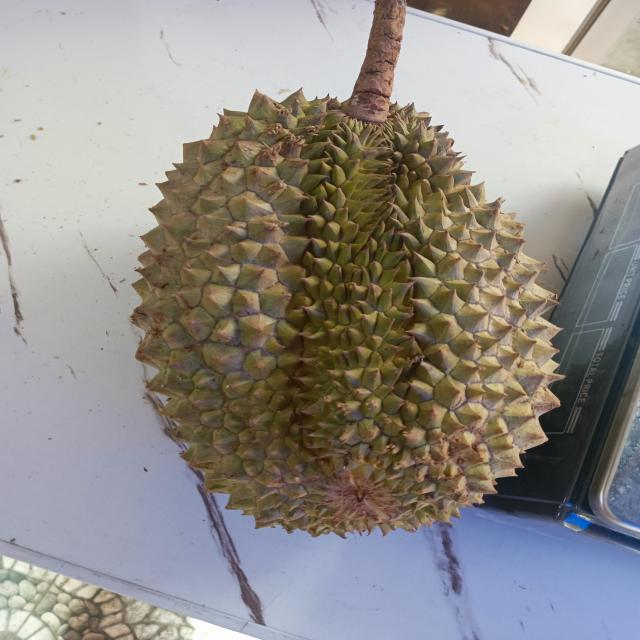mature: (127, 83, 581, 551)
